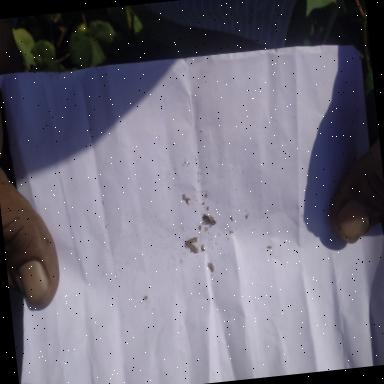pbw: (184, 234, 201, 252), (202, 212, 216, 227)
